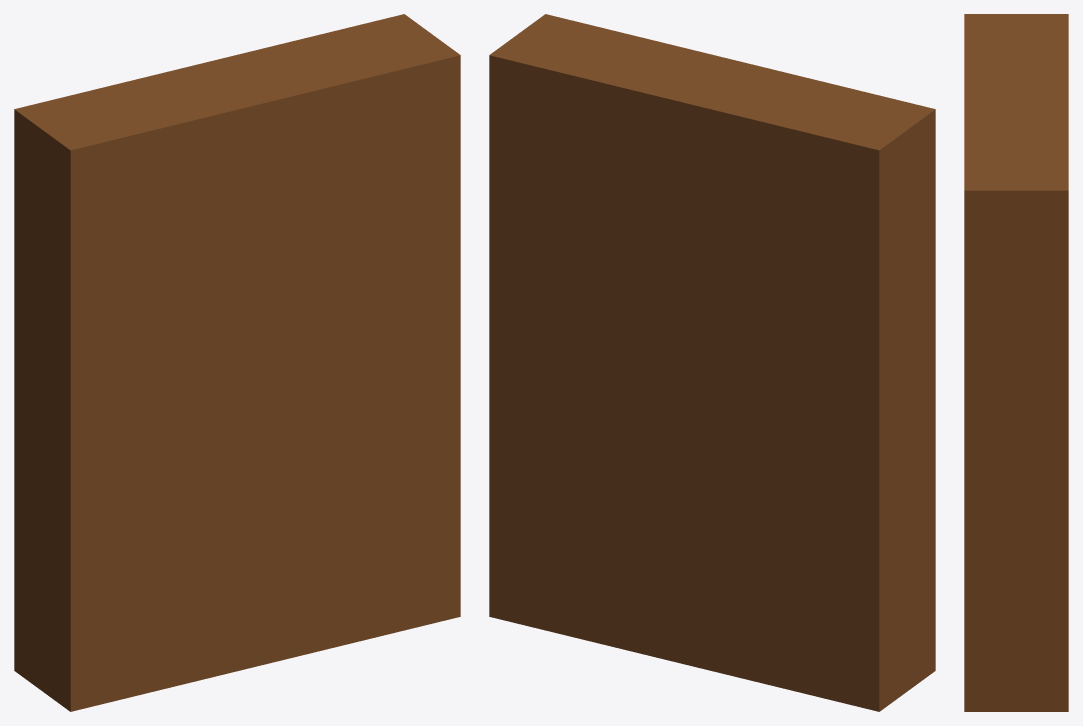
Rendered from bookshelf.glb.
3 renders of one model, left to right at view 1: azimuth 30°, elevation 25°; view 2: azimuth 150°, elevation 25°; view 3: azimuth 270°, elevation 25°, orthographic. The views are drawn at different scales.
Visible parts, largest first — view 1: bookshelf; view 2: bookshelf; view 3: bookshelf.
Part boxes in pixels (box(x1,y1,x2,y2)): bookshelf: box(14, 14, 460, 711); bookshelf: box(489, 14, 935, 711); bookshelf: box(964, 14, 1068, 711).
Bounding box in the file's own units: 1.6 × 2.2 × 0.4.
